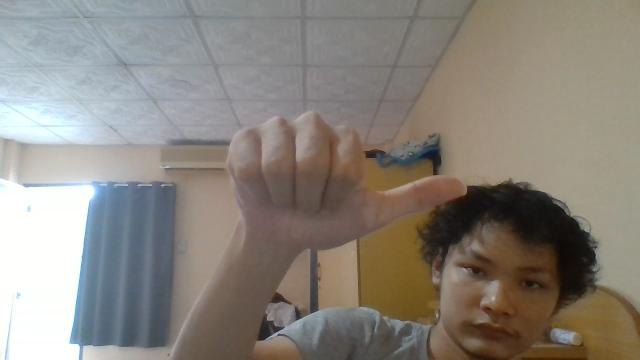left: (225, 110, 467, 252)
